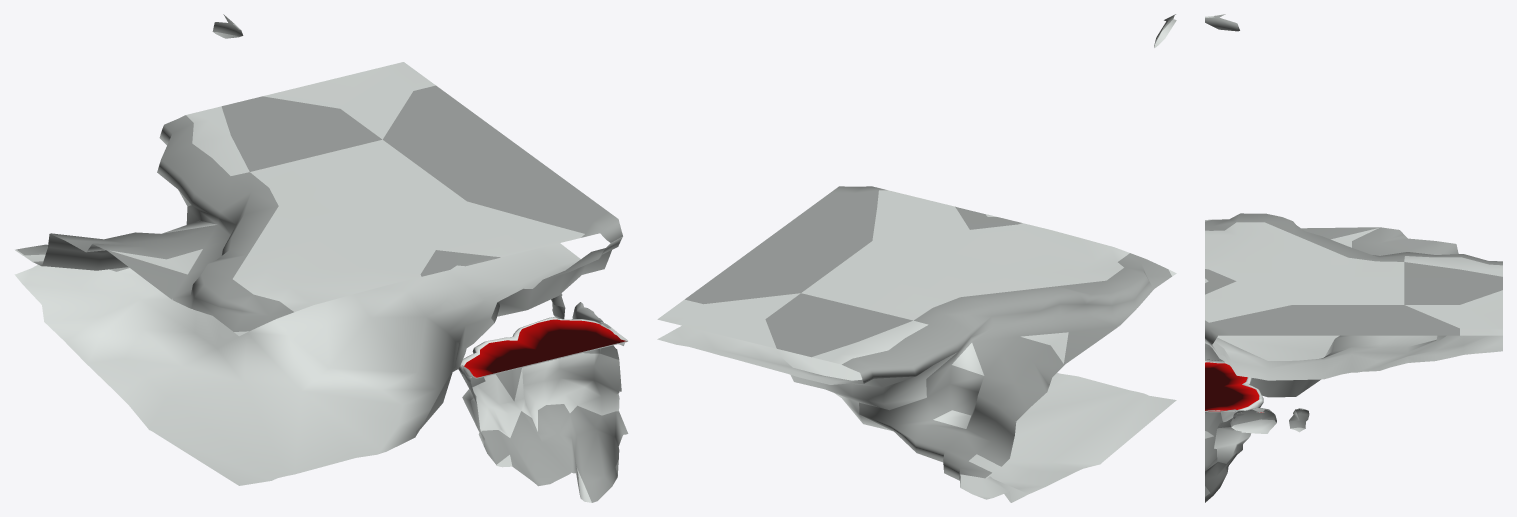
3 renders of one model, left to right at view 1: azimuth 30°, elevation 25°; view 2: azimuth 150°, elevation 25°; view 3: azimuth 270°, elevation 25°, orthographic. The views are drawn at different scales.
Visible parts, largest first — view 1: G:\FFXIV-MapTools\exports\a2f1\bg\ex1\03_abr_a2\fld\a2f1\bgp (×10); view 2: G:\FFXIV-MapTools\exports\a2f1\bg\ex1\03_abr_a2\fld\a2f1\bgp (×10); view 3: G:\FFXIV-MapTools\exports\a2f1\bg\ex1\03_abr_a2\fld\a2f1\bgp (×10).
Boxes of the visible parts, x1,y1,x2,y2 form: G:\FFXIV-MapTools\exports\a2f1\bg\ex1\03_abr_a2\fld\a2f1\bgp (×10): (14,14,628,502); G:\FFXIV-MapTools\exports\a2f1\bg\ex1\03_abr_a2\fld\a2f1\bgp (×10): (657,14,1176,502); G:\FFXIV-MapTools\exports\a2f1\bg\ex1\03_abr_a2\fld\a2f1\bgp (×10): (1205,14,1502,502).
Size of the model in its own units: 128 by 177 by 128.
